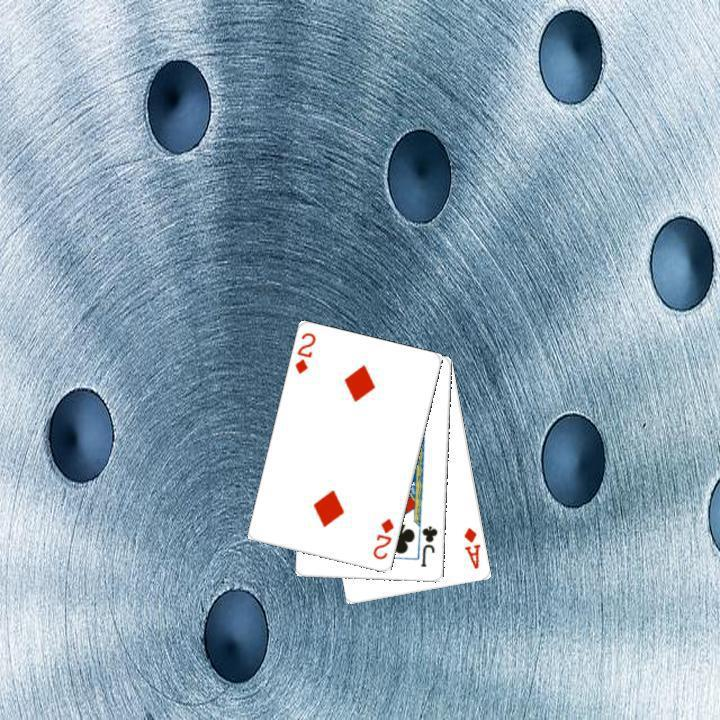2: (369, 514, 396, 562), (291, 328, 318, 376)
A: (460, 523, 483, 571)
J: (417, 522, 440, 569)
